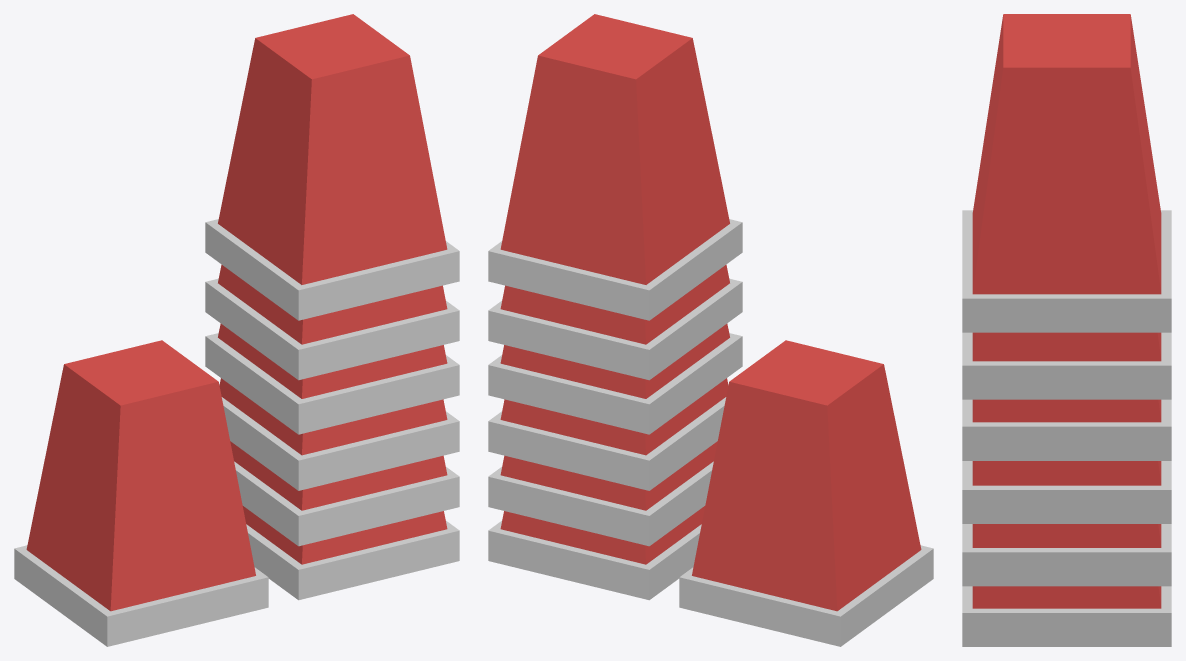
Rendered from Cupstack.glb.
3 renders of one model, left to right at view 1: azimuth 30°, elevation 25°; view 2: azimuth 150°, elevation 25°; view 3: azimuth 270°, elevation 25°, orthographic. The views are drawn at different scales.
Parts seen in each view (by area): view 1: SI_Prop_CupStack_01; view 2: SI_Prop_CupStack_01; view 3: SI_Prop_CupStack_01.
Boxes of the visible parts, bbox=[...] form: SI_Prop_CupStack_01: bbox=[14, 14, 459, 646]; SI_Prop_CupStack_01: bbox=[488, 14, 933, 646]; SI_Prop_CupStack_01: bbox=[962, 14, 1171, 646].
Bounding box in the file's own units: 0.00623 × 0.00844 × 0.00285.
Materials: 1 (1 with a texture image).
